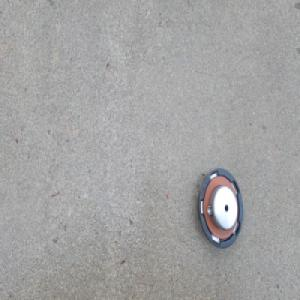FuelCap: (197, 165, 244, 250)
